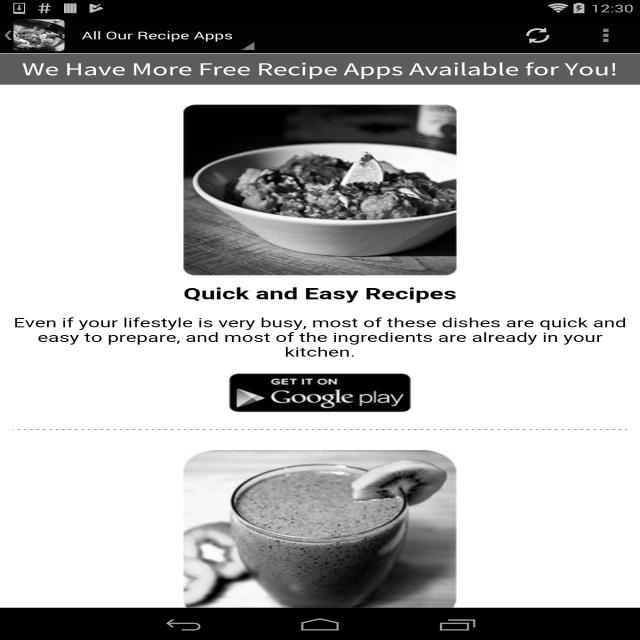Button: (220, 371, 418, 415)
ImageButton: (516, 21, 558, 48), (591, 22, 623, 48)
ImageView: (176, 102, 465, 274), (181, 448, 459, 607), (13, 20, 68, 49)
TextView: (5, 313, 631, 355), (18, 60, 620, 78), (179, 281, 457, 303), (74, 26, 242, 44)
